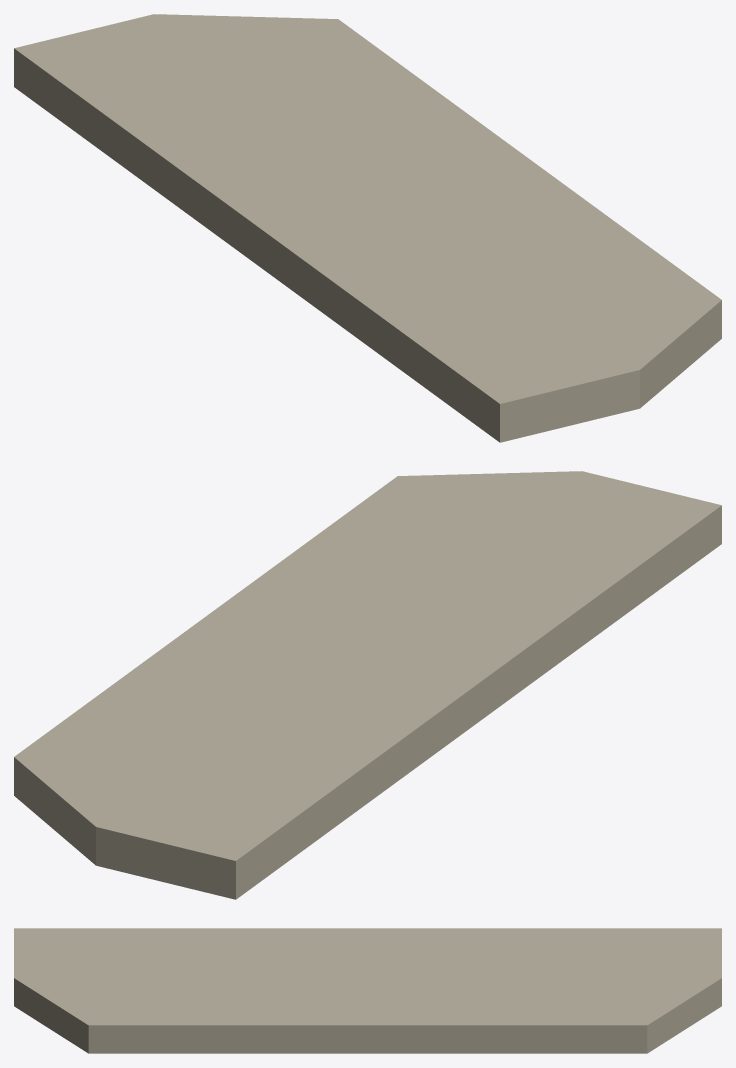
Rendered from stair_1_1.fbx.
3 renders of one model, top to bottom at view 1: azimuth 30°, elevation 25°; view 2: azimuth 150°, elevation 25°; view 3: azimuth 270°, elevation 25°, orthographic. The views are drawn at different scales.
Parts seen in each view (by area): view 1: stair_1_1; view 2: stair_1_1; view 3: stair_1_1.
Boxes of the visible parts, x1=… form: stair_1_1: x1=14, y1=14, x2=721, y2=442; stair_1_1: x1=14, y1=471, x2=721, y2=899; stair_1_1: x1=14, y1=928, x2=721, y2=1053.
Bounding box in the file's own units: 2 × 0.2712 × 6.16.
